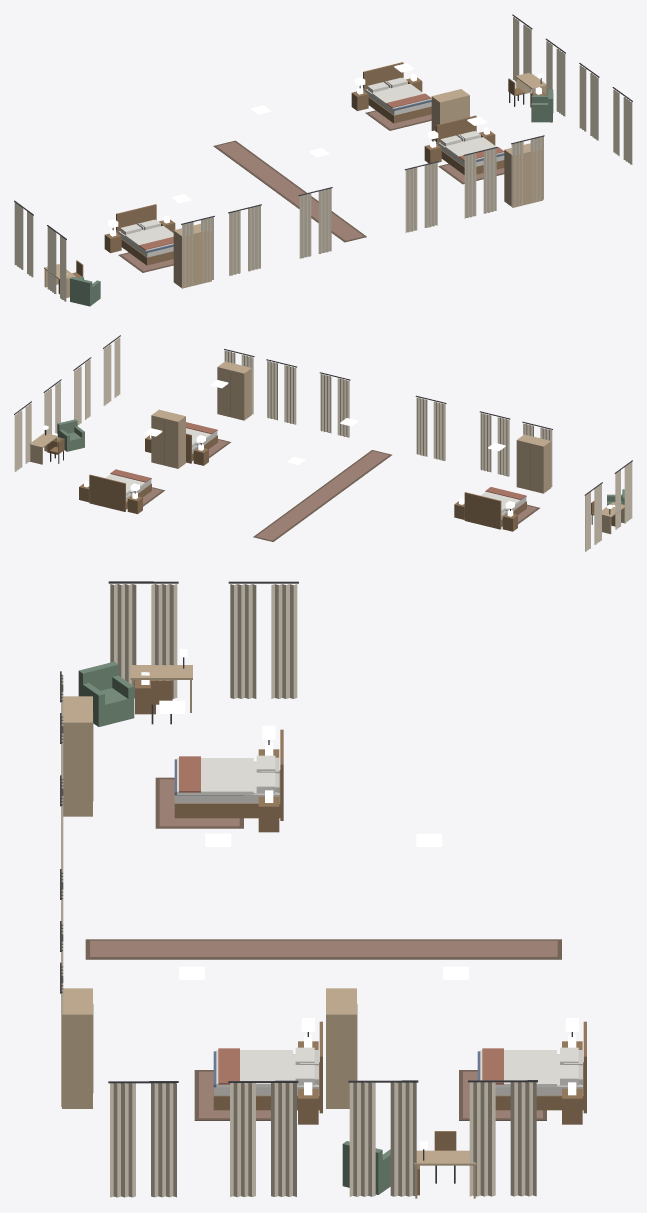
File: fine-s5.glb
3 views of the same model, one above another, from view 1: azimuth 30°, elevation 25°; view 2: azimuth 150°, elevation 25°; view 3: azimuth 270°, elevation 25° (orthographic). The views are drawn at different scales.
Visible parts, largest first — view 1: soft-s5, dresser.014, dresser.012, bed-frame.013, bed-frame.012, bed-frame.014, dresser.013, lounge-chair.008, lounge-chair.009, writing-desk.009; view 2: soft-s5, dresser.012, dresser.013, dresser.014, bed-frame.012, bed-frame.013, lounge-chair.009, writing-desk.009, writing-desk.008, bed-frame.014; view 3: soft-s5, dresser.014, dresser.012, dresser.013, bed-frame.012, lounge-chair.008, bed-frame.013, bed-frame.014, writing-desk.009, writing-desk.008, lounge-chair.009, nightstand.025.
Boxes of the visible parts, <box> form: soft-s5: <box>14,14,632,301</box>; dresser.014: <box>504,143,542,207</box>; dresser.012: <box>173,223,211,288</box>; bed-frame.013: <box>363,62,431,123</box>; bed-frame.012: <box>116,204,173,265</box>; bed-frame.014: <box>436,115,504,174</box>; dresser.013: <box>431,89,469,141</box>; lounge-chair.008: <box>70,276,100,306</box>; lounge-chair.009: <box>531,89,553,122</box>; writing-desk.009: <box>515,72,546,95</box>; soft-s5: <box>14,335,632,551</box>; dresser.012: <box>516,434,551,493</box>; dresser.013: <box>151,409,185,468</box>; dresser.014: <box>217,361,251,420</box>; bed-frame.012: <box>464,492,526,529</box>; bed-frame.013: <box>89,474,151,511</box>; lounge-chair.009: <box>57,419,84,451</box>; writing-desk.009: <box>29,425,57,464</box>; writing-desk.008: <box>602,502,625,534</box>; bed-frame.014: <box>186,430,217,463</box>; soft-s5: <box>60,581,580,1197</box>; dresser.014: <box>62,988,93,1108</box>; dresser.012: <box>63,696,93,816</box>; dresser.013: <box>326,988,357,1108</box>; bed-frame.012: <box>174,729,283,820</box>; lounge-chair.008: <box>78,661,134,726</box>; bed-frame.013: <box>477,1021,586,1113</box>; bed-frame.014: <box>213,1021,322,1113</box>; writing-desk.009: <box>414,1141,476,1198</box>; writing-desk.008: <box>130,649,192,712</box>; lounge-chair.009: <box>342,1141,390,1194</box>; nightstand.025: <box>258,790,279,832</box>.
Size of the model in its own units: 22.8 by 2.51 by 10.14.
